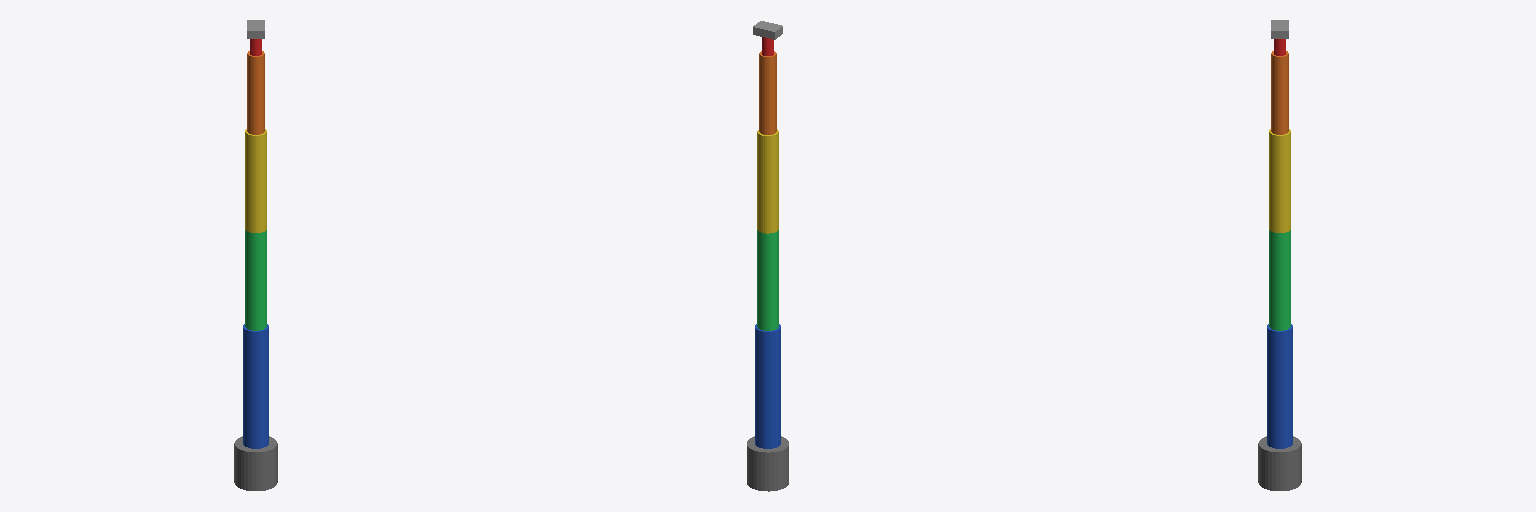
URDF robot description (bamboo_icd):
<?xml version="1.0"?>
<robot name="bamboo_icd">
  <!-- Base link (fixed to ground) -->
  <link name="base_link">
    <visual>
      <geometry>
        <cylinder length="0.1" radius="0.05"/>
      </geometry>
      <origin xyz="0 0 0.05" rpy="0 0 0"/>
      <material name="gray">
        <color rgba="0.5 0.5 0.5 1.0"/>
      </material>
    </visual>
    <collision>
      <geometry>
        <cylinder length="0.1" radius="0.05"/>
      </geometry>
      <origin xyz="0 0 0.05" rpy="0 0 0"/>
    </collision>
  </link>

  <!-- Joint 1: wrist Z rotation [-170, 170] deg -->
  <joint name="joint_1" type="revolute">
    <parent link="base_link"/>
    <child link="link_1"/>
    <origin xyz="0 0 0.1" rpy="0 0 0"/>
    <axis xyz="0 0 1"/>
    <limit lower="-2.967" upper="2.967" effort="100" velocity="2.0"/>
  </joint>

  <link name="link_1">
    <visual>
      <geometry>
        <cylinder length="0.3" radius="0.03"/>
      </geometry>
      <origin xyz="0 0 0.15" rpy="0 0 0"/>
      <material name="blue">
        <color rgba="0.2 0.4 0.8 1.0"/>
      </material>
    </visual>
    <collision>
      <geometry>
        <cylinder length="0.3" radius="0.03"/>
      </geometry>
      <origin xyz="0 0 0.15" rpy="0 0 0"/>
    </collision>
  </link>

  <!-- Joint 2: elbow X rotation [-90, 90] deg -->
  <joint name="joint_2" type="revolute">
    <parent link="link_1"/>
    <child link="link_2"/>
    <origin xyz="0 0 0.3" rpy="0 0 0"/>
    <axis xyz="1 0 0"/>
    <limit lower="-1.571" upper="1.571" effort="100" velocity="2.0"/>
  </joint>

  <link name="link_2">
    <visual>
      <geometry>
        <cylinder length="0.25" radius="0.025"/>
      </geometry>
      <origin xyz="0 0 0.125" rpy="0 0 0"/>
      <material name="green">
        <color rgba="0.2 0.8 0.4 1.0"/>
      </material>
    </visual>
    <collision>
      <geometry>
        <cylinder length="0.25" radius="0.025"/>
      </geometry>
      <origin xyz="0 0 0.125" rpy="0 0 0"/>
    </collision>
  </link>

  <!-- Joint 3: shoulder X rotation [-135, 135] deg -->
  <joint name="joint_3" type="revolute">
    <parent link="link_2"/>
    <child link="link_3"/>
    <origin xyz="0 0 0.25" rpy="0 0 0"/>
    <axis xyz="1 0 0"/>
    <limit lower="-2.356" upper="2.356" effort="100" velocity="2.0"/>
  </joint>

  <link name="link_3">
    <visual>
      <geometry>
        <cylinder length="0.25" radius="0.025"/>
      </geometry>
      <origin xyz="0 0 0.125" rpy="0 0 0"/>
      <material name="yellow">
        <color rgba="0.9 0.8 0.2 1.0"/>
      </material>
    </visual>
    <collision>
      <geometry>
        <cylinder length="0.25" radius="0.025"/>
      </geometry>
      <origin xyz="0 0 0.125" rpy="0 0 0"/>
    </collision>
  </link>

  <!-- Joint 4: elbow X rotation [-90, 90] deg -->
  <joint name="joint_4" type="revolute">
    <parent link="link_3"/>
    <child link="link_4"/>
    <origin xyz="0 0 0.25" rpy="0 0 0"/>
    <axis xyz="1 0 0"/>
    <limit lower="-1.571" upper="1.571" effort="100" velocity="2.0"/>
  </joint>

  <link name="link_4">
    <visual>
      <geometry>
        <cylinder length="0.2" radius="0.02"/>
      </geometry>
      <origin xyz="0 0 0.1" rpy="0 0 0"/>
      <material name="orange">
        <color rgba="0.9 0.5 0.2 1.0"/>
      </material>
    </visual>
    <collision>
      <geometry>
        <cylinder length="0.2" radius="0.02"/>
      </geometry>
      <origin xyz="0 0 0.1" rpy="0 0 0"/>
    </collision>
  </link>

  <!-- Joint 5: wrist Z rotation [-170, 170] deg -->
  <joint name="joint_5" type="revolute">
    <parent link="link_4"/>
    <child link="link_5"/>
    <origin xyz="0 0 0.2" rpy="0 0 0"/>
    <axis xyz="0 0 1"/>
    <limit lower="-2.967" upper="2.967" effort="50" velocity="2.0"/>
  </joint>

  <link name="link_5">
    <visual>
      <geometry>
        <cylinder length="0.05" radius="0.015"/>
      </geometry>
      <origin xyz="0 0 0.025" rpy="0 0 0"/>
      <material name="red">
        <color rgba="0.9 0.2 0.2 1.0"/>
      </material>
    </visual>
    <collision>
      <geometry>
        <cylinder length="0.05" radius="0.015"/>
      </geometry>
      <origin xyz="0 0 0.025" rpy="0 0 0"/>
    </collision>
  </link>

  <!-- End effector (gripper) -->
  <joint name="gripper_joint" type="fixed">
    <parent link="link_5"/>
    <child link="gripper_link"/>
    <origin xyz="0 0 0.05" rpy="0 0 0"/>
  </joint>

  <link name="gripper_link">
    <visual>
      <geometry>
        <box size="0.06 0.04 0.02"/>
      </geometry>
      <origin xyz="0 0 0.01" rpy="0 0 0"/>
      <material name="gray">
        <color rgba="0.6 0.6 0.6 1.0"/>
      </material>
    </visual>
    <collision>
      <geometry>
        <box size="0.06 0.04 0.02"/>
      </geometry>
      <origin xyz="0 0 0.01" rpy="0 0 0"/>
    </collision>
  </link>

  <!-- Tool frame (end effector tip) -->
  <joint name="tool_joint" type="fixed">
    <parent link="gripper_link"/>
    <child link="tool0"/>
    <origin xyz="0 0 0.02" rpy="0 0 0"/>
  </joint>

  <link name="tool0"/>
</robot>

--- Render facts (derived) ---
3 views of the same robot in one strip: view 1: azimuth 90°, elevation 25°; view 2: azimuth 150°, elevation 25°; view 3: azimuth 270°, elevation 25° (orthographic).
Model bamboo_icd with 8 links and 7 joints (5 revolute, 2 fixed), rooted at base_link, posed all joints at 0.
Visible links, largest first — view 1: link_1, link_3, link_2, base_link, link_4; view 2: link_1, link_3, link_2, base_link, link_4; view 3: link_1, link_3, link_2, base_link, link_4.
Boxes of the visible links, <box> form: link_1: <box>243,324,268,448</box>; link_3: <box>245,129,266,232</box>; link_2: <box>245,230,266,330</box>; base_link: <box>234,436,277,490</box>; link_4: <box>247,51,264,134</box>; link_1: <box>755,324,780,448</box>; link_3: <box>757,129,778,233</box>; link_2: <box>757,230,778,330</box>; base_link: <box>747,436,788,491</box>; link_4: <box>759,51,776,134</box>; link_1: <box>1267,324,1292,448</box>; link_3: <box>1269,129,1290,232</box>; link_2: <box>1269,230,1290,330</box>; base_link: <box>1258,436,1301,490</box>; link_4: <box>1271,51,1288,134</box>.
Bounding box of the posed robot: 0.1 × 0.1 × 1.17 m (x, y, z).
Geometry: primitives only (box / cylinder / sphere), no mesh files.
